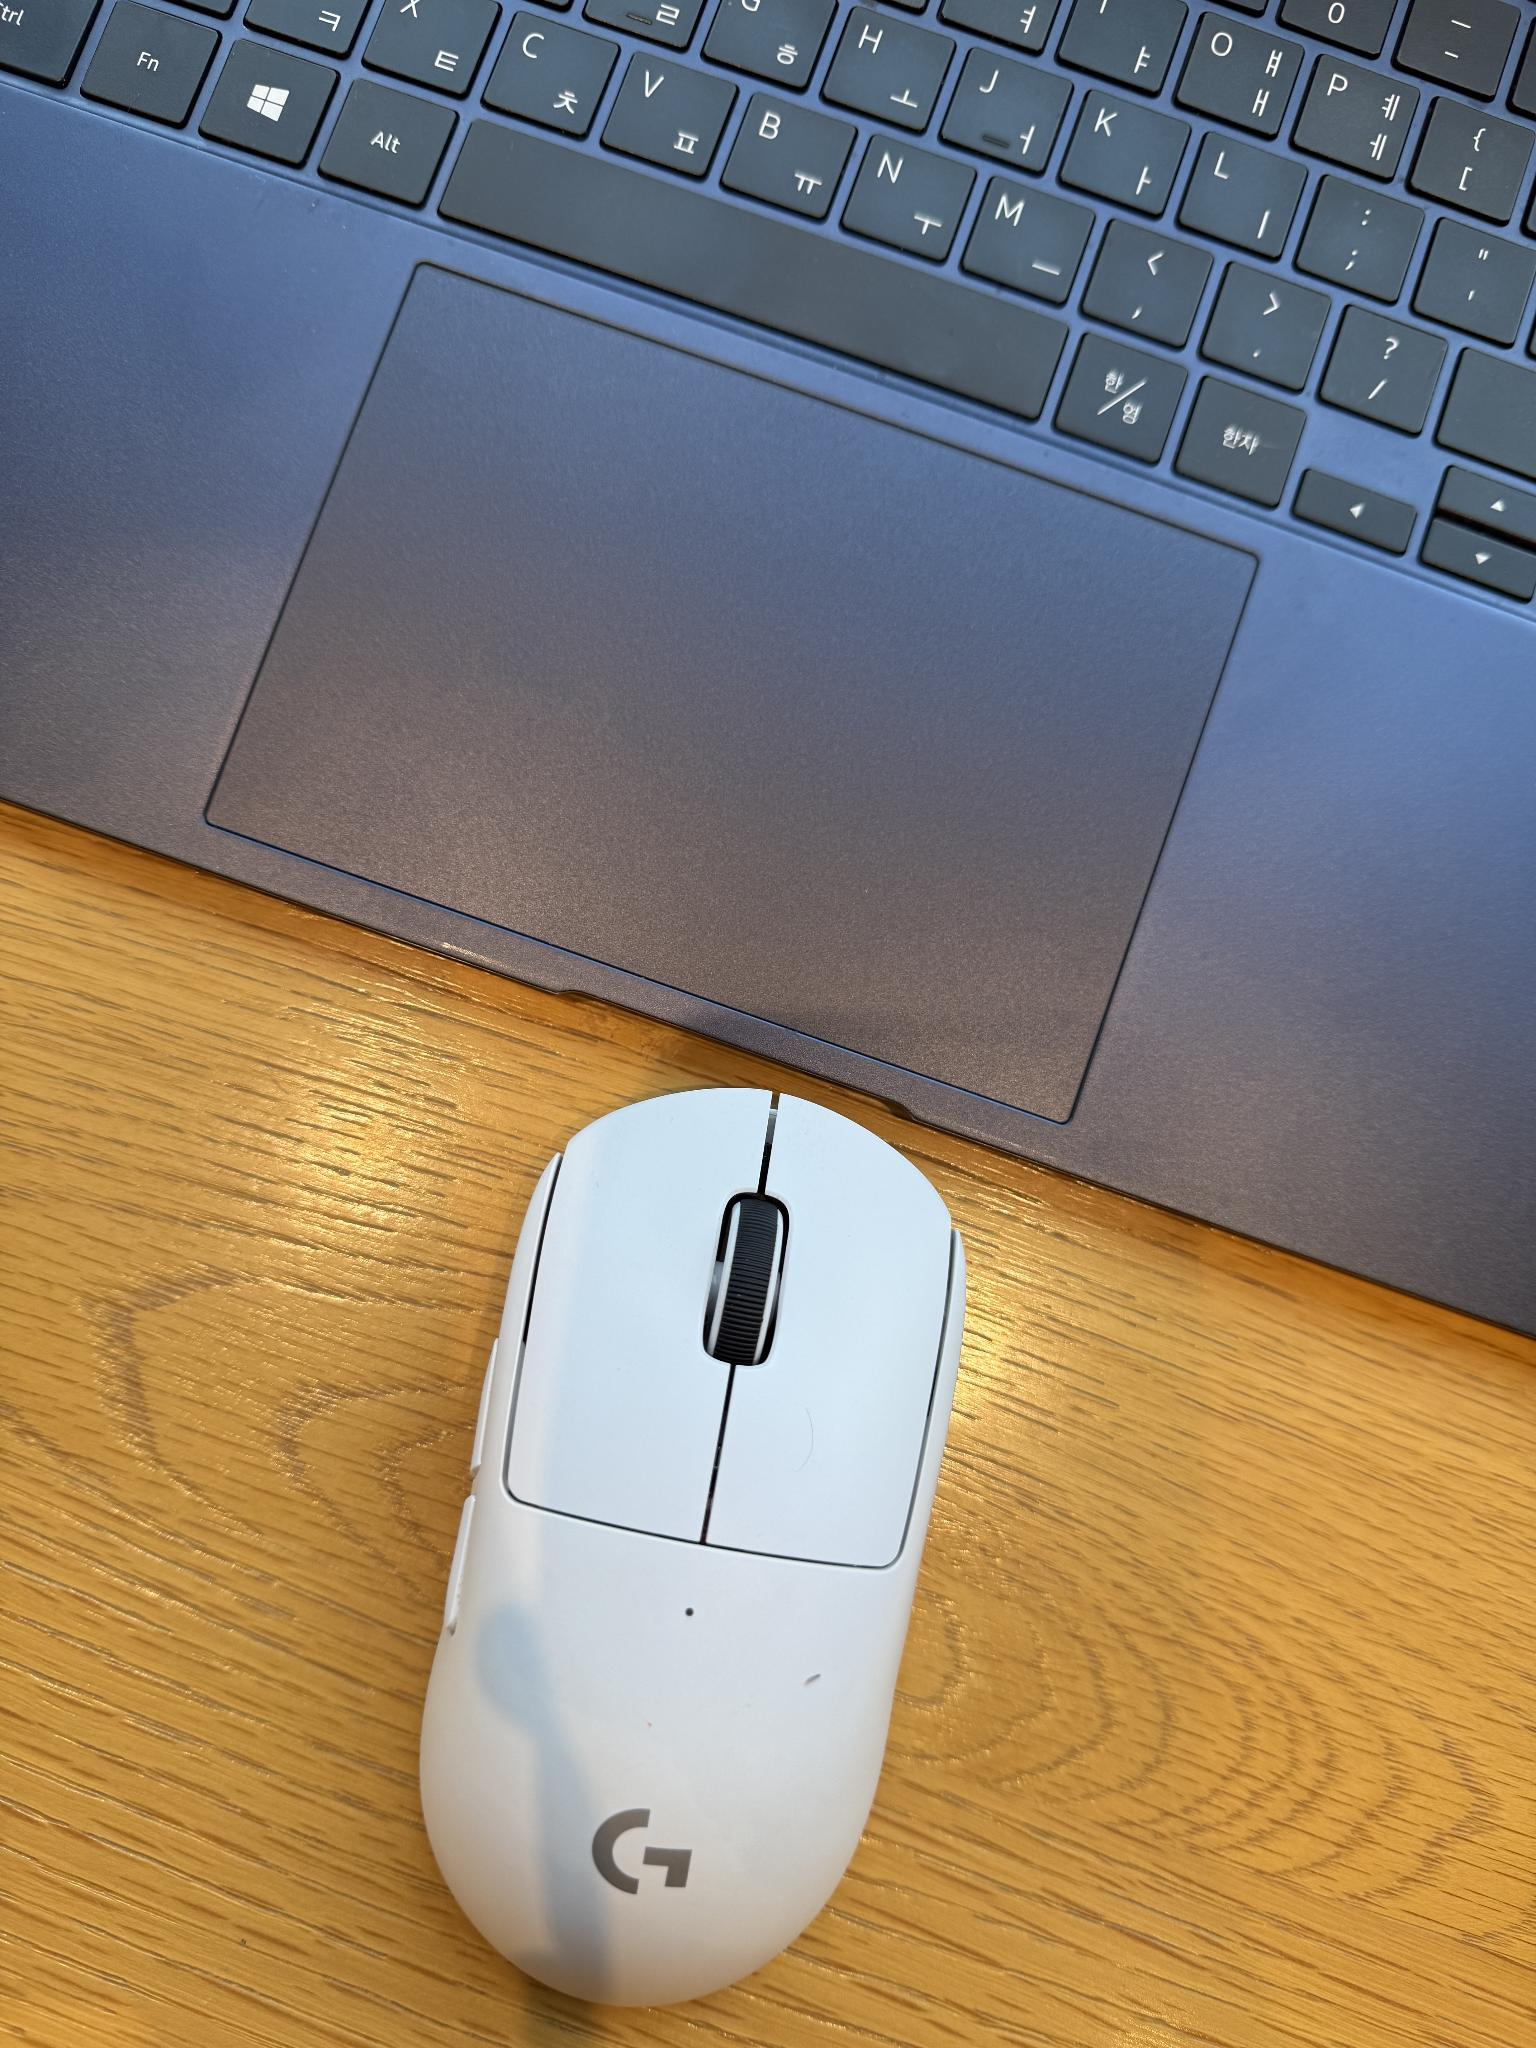front: (423, 1087, 975, 2016)
